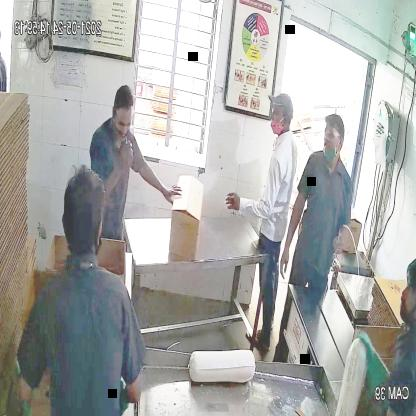goggles: (112, 112, 136, 134), (324, 128, 346, 146)
